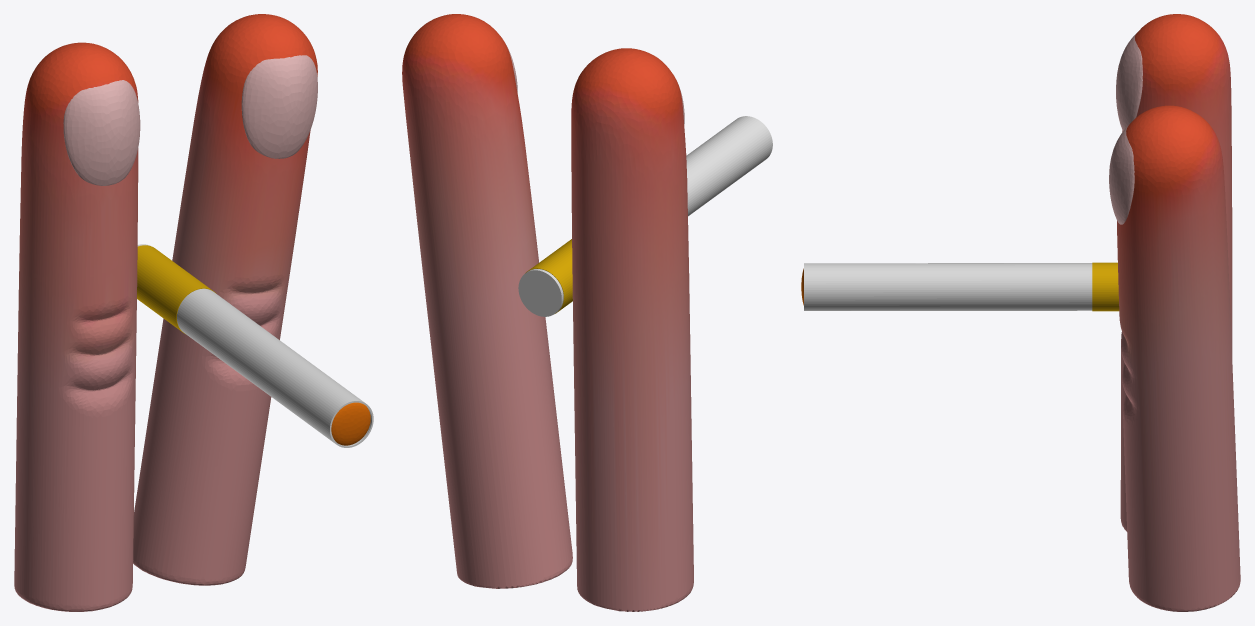
File: Misc_05_fingers.glb
3 views of the same model, side by side, from view 1: azimuth 30°, elevation 25°; view 2: azimuth 150°, elevation 25°; view 3: azimuth 270°, elevation 25° (orthographic). The views are drawn at different scales.
Parts seen in each view (by area): view 1: Misc_05_fingers; view 2: Misc_05_fingers; view 3: Misc_05_fingers.
Part boxes in pixels (x1=…): Misc_05_fingers: x1=14, y1=14, x2=373, y2=611; Misc_05_fingers: x1=402, y1=14, x2=772, y2=611; Misc_05_fingers: x1=801, y1=14, x2=1240, y2=611.
Size of the model in its own units: 1.6 by 2.97 by 2.27.
